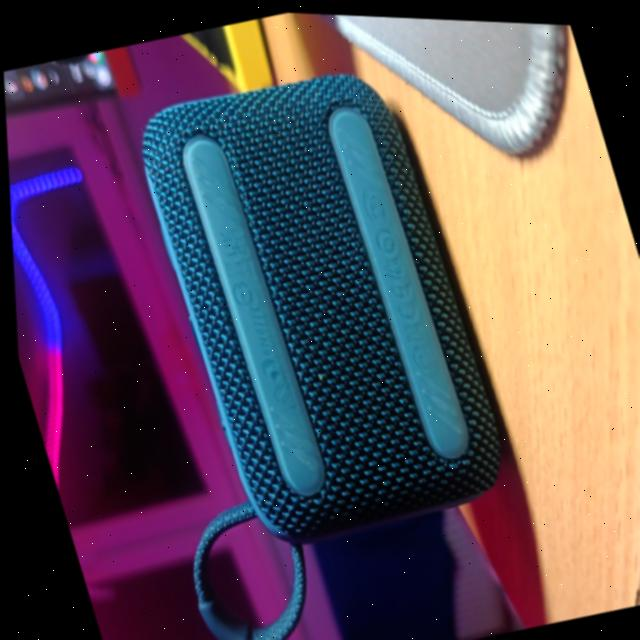column JBL: (33, 1, 553, 640)
